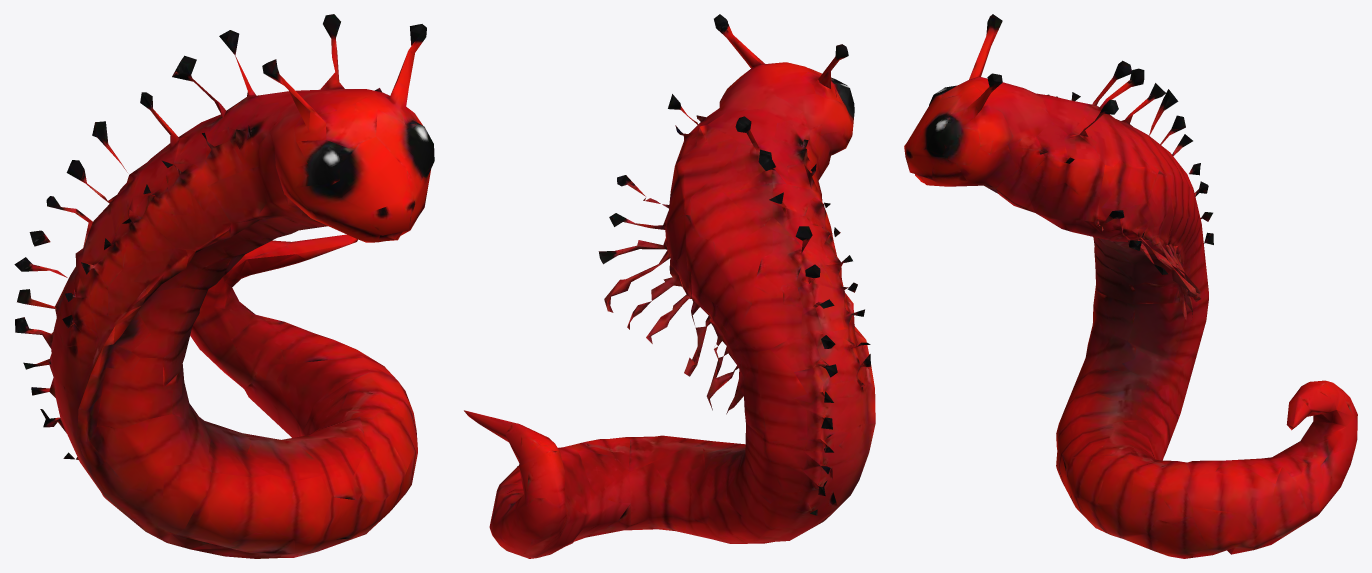
The model's file is monster_70.glb.
3 views of the same model, side by side, from view 1: azimuth 30°, elevation 25°; view 2: azimuth 150°, elevation 25°; view 3: azimuth 270°, elevation 25° (orthographic). The views are drawn at different scales.
Visible parts, largest first — view 1: Toxic_Worm_1111123953_texture; view 2: Toxic_Worm_1111123953_texture; view 3: Toxic_Worm_1111123953_texture.
Part boxes in pixels (x1,y1,x2,y2): Toxic_Worm_1111123953_texture: (14,14,434,558); Toxic_Worm_1111123953_texture: (464,14,875,558); Toxic_Worm_1111123953_texture: (904,14,1357,558).
Size of the model in its own units: 1.42 by 1.91 by 1.73.
1 material, 1 textured.
